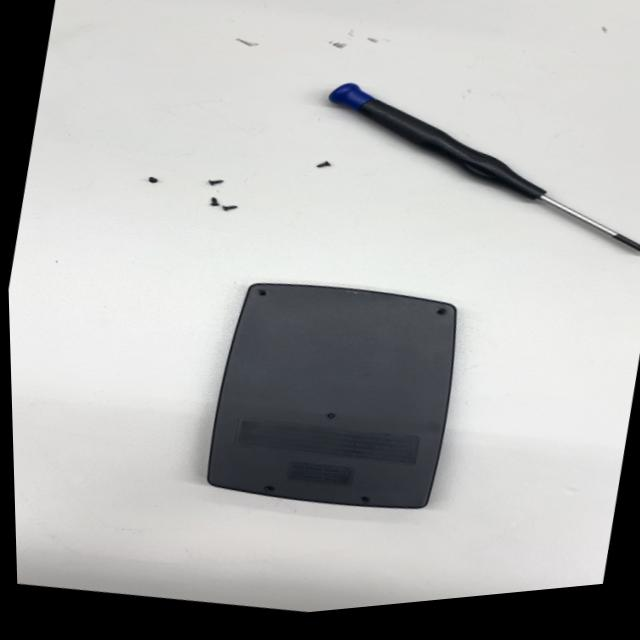back_cover: (187, 251, 477, 543)
screw: (312, 152, 338, 174), (204, 174, 230, 192), (220, 200, 244, 217), (200, 193, 222, 209), (142, 174, 160, 191)
screw_driver: (299, 45, 640, 286)
